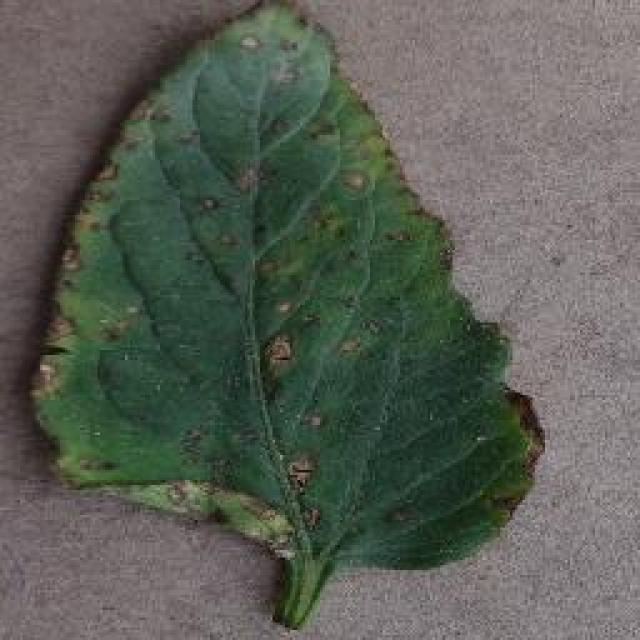Tomato___Bacterial_spot: (31, 0, 556, 634)
